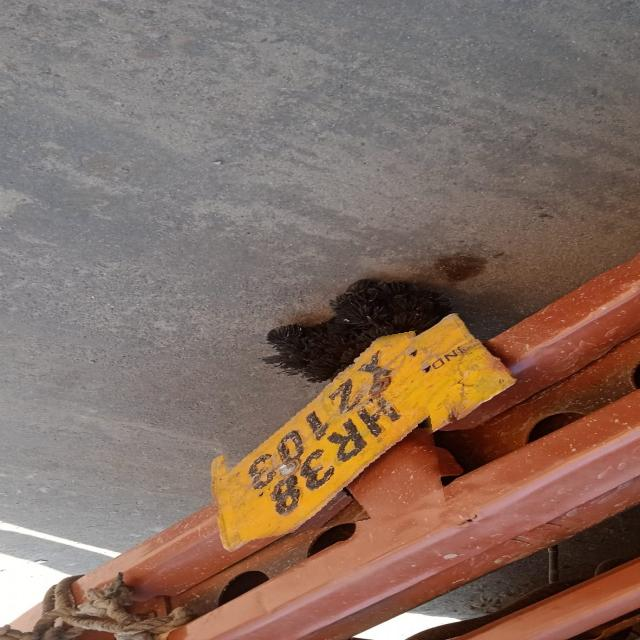License-plate: (227, 336, 428, 536)
